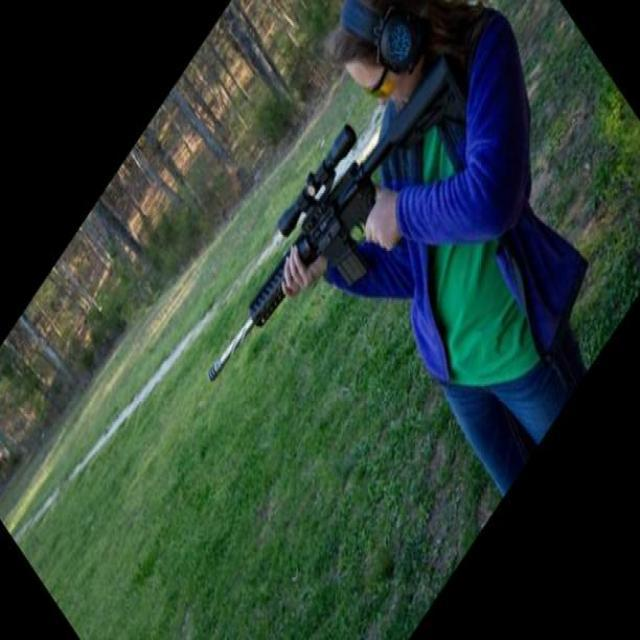weapon: (206, 58, 468, 382)
